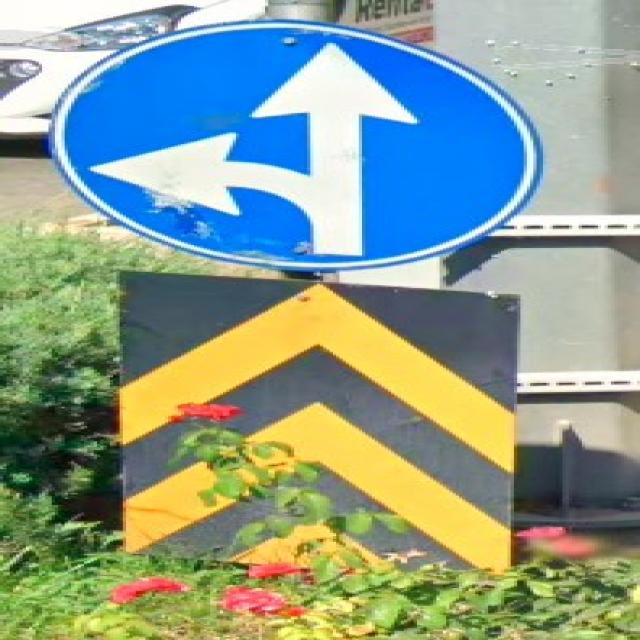Straight or Left: (50, 21, 544, 271)
